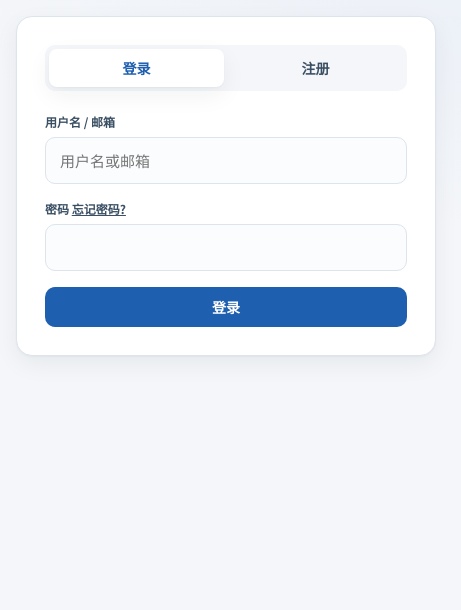
it: LoginPage › shows a localized error (not the raw backend string) when register code is wrong
Click the button "注册".
click(316, 68)  # box [228, 49, 403, 87]
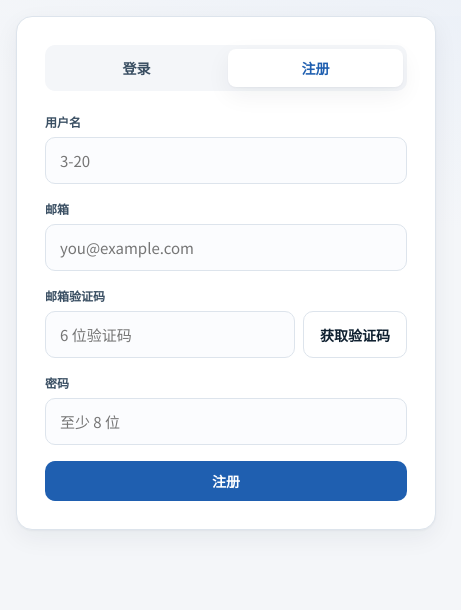
Type "zoe@example.com" into the field with placeholder "you@example.com".
click(226, 248); type("zoe@example.com")  # box [45, 224, 407, 271]
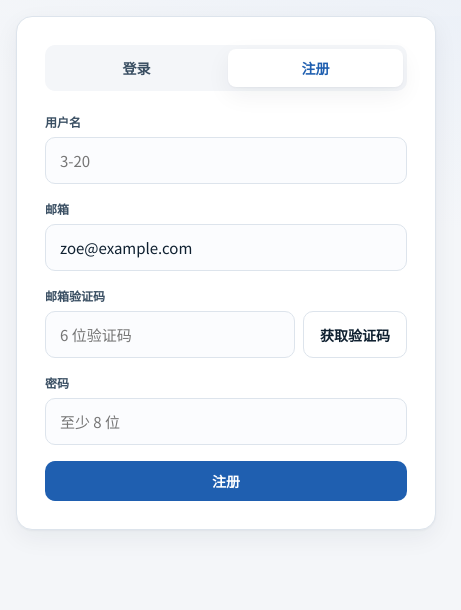
Type "password123" into the password field with placeholder "至少 8 位".
click(226, 422); type("password123")  # box [45, 398, 407, 445]
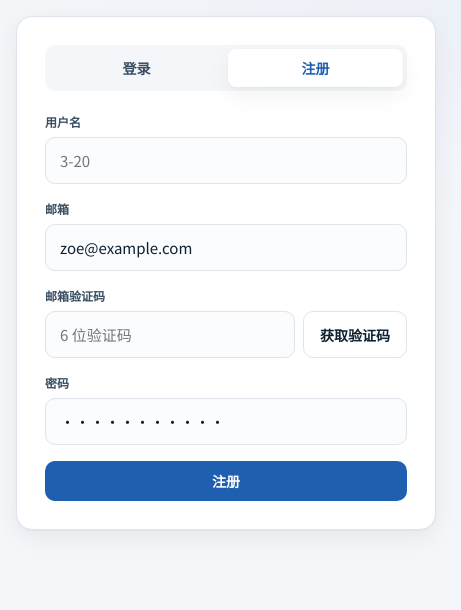
Submit the form, box [45, 113, 407, 501]
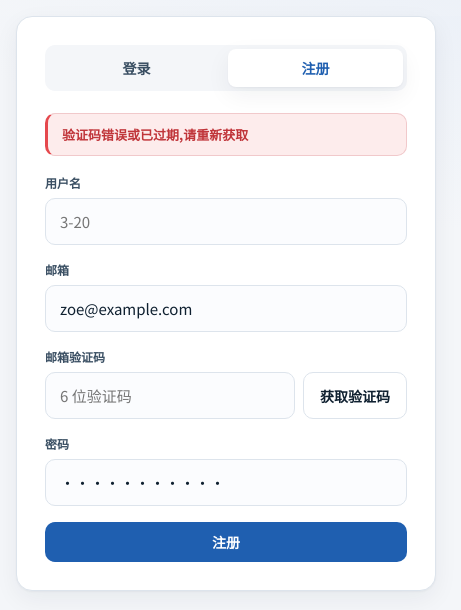
Check: the text with class "authErr" reads "验证码错误或已过期,请重新获取", box [62, 125, 248, 144]
